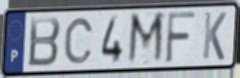4: (100, 14, 125, 65)
B: (27, 15, 62, 69)
C: (63, 16, 95, 66)
F: (164, 10, 198, 65)
K: (201, 10, 228, 62)
M: (125, 10, 166, 67)
